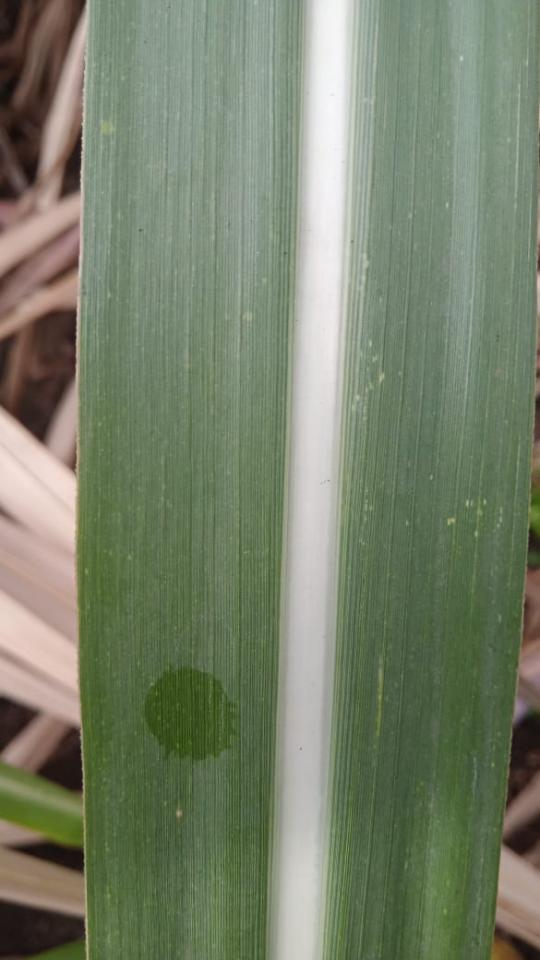Healthy: (78, 0, 539, 959)
